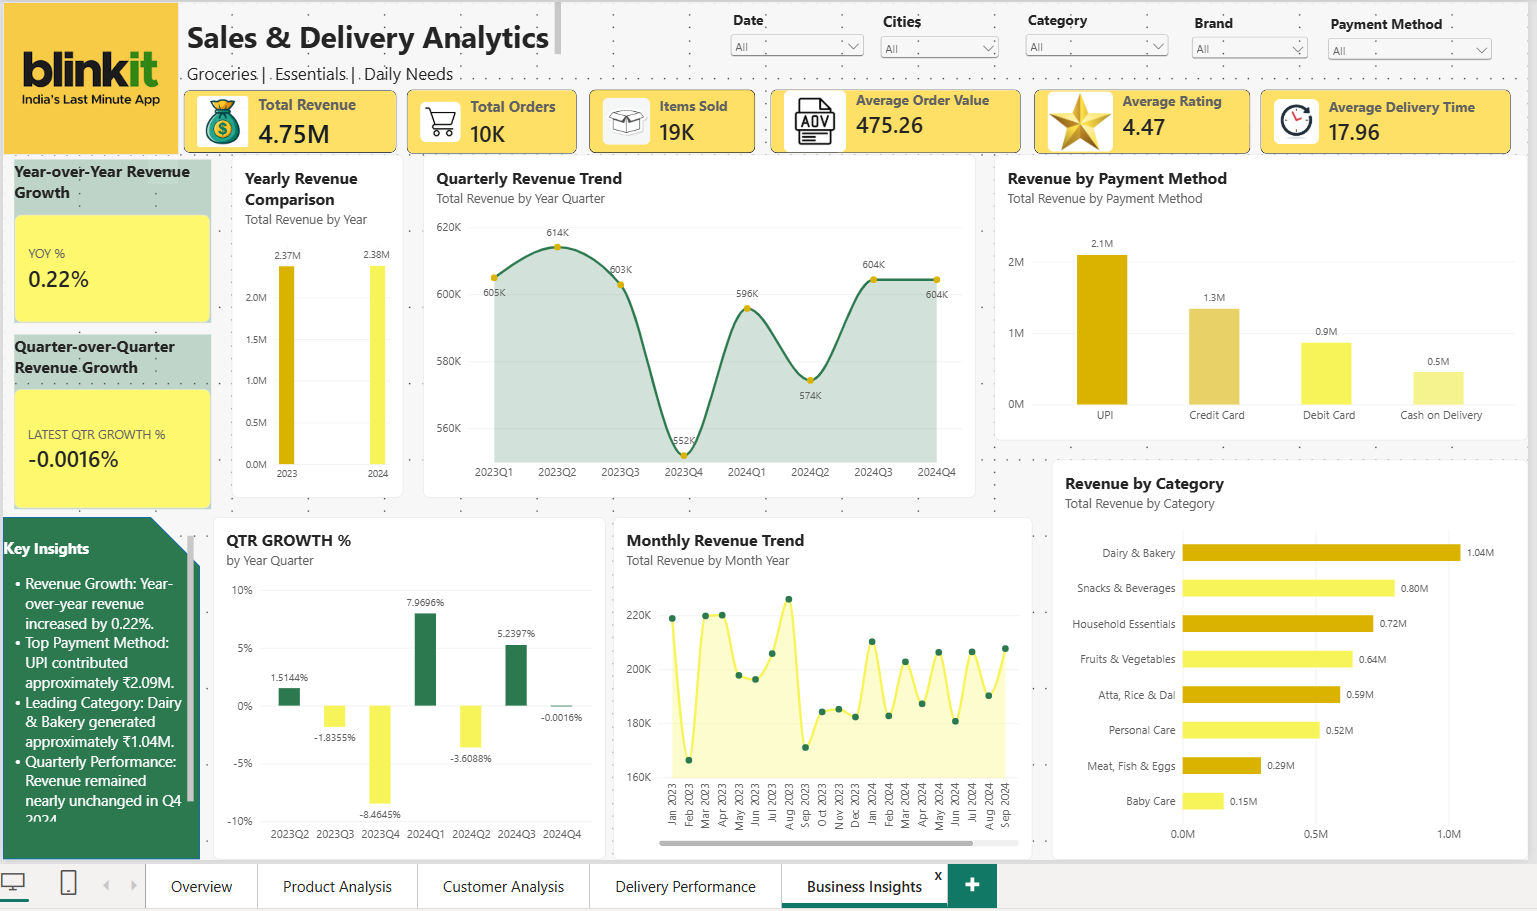

The dashboard page shown, as its layout file describes it:
{"tool":"powerbi","page":{"name":"Business Insights","canvas":[1920,1080],"ordinal":4},"visuals":[{"type":"image","box":[0,0,221.7,192.1],"z":0},{"type":"textbox","box":[232.1,0,471.5,75.4],"z":4},{"type":"textbox","box":[372,192,804,138],"z":5},{"type":"textbox","box":[372,330,804,74],"z":6},{"type":"textbox","box":[232.1,75.4,818.8,35.5],"z":7},{"type":"slicer","fields":{"Values":["Calendar1.Date"]},"box":[910.5,10.5,177.4,69.4],"z":8},{"type":"slicer","fields":{"Values":["Cities.City"]},"box":[1100.6,10.5,158.7,68],"z":9},{"type":"slicer","fields":{"Values":["Orders.Category"]},"box":[1282,10.5,190.1,69.8],"z":10},{"type":"slicer","fields":{"Values":["Orders.Brand"]},"box":[1491.3,14,156.5,72.6],"z":11},{"type":"slicer","fields":{"Values":["Orders.Payment Method"]},"box":[1664,15.7,216.3,64.5],"z":12},{"type":"cardVisual","fields":{"Data":["Calendar1.Total Revenue"]},"box":[226.1,110.9,270.5,81.3],"z":13},{"type":"cardVisual","fields":{"Data":["Calendar1.Total Orders"]},"box":[508.5,110.9,214.3,81.3],"z":14},{"type":"cardVisual","fields":{"Data":["Calendar1.Items Sold"]},"box":[737.8,109.9,209.3,80.2],"z":15},{"type":"cardVisual","fields":{"Data":["Calendar1.Average Order Value"]},"box":[966.3,109.9,315.7,80.2],"z":16},{"type":"cardVisual","fields":{"Data":["Calendar1.Average Rating"]},"box":[1297.7,109.9,272.1,82],"z":17},{"type":"cardVisual","fields":{"Data":["Calendar1.Average Delivery Time"]},"box":[1583.7,109.9,315.7,82],"z":18},{"type":"clusteredColumnChart","title":"Yearly Revenue Comparison","fields":{"Category":["Calendar1.Year"],"Y":["Calendar1.Total Revenue"]},"box":[288,192,216,432],"z":25},{"type":"lineChart","title":"Quarterly Revenue Trend","fields":{"Category":["Calendar1.Year Quarter"],"Y":["Calendar1.Total Revenue"]},"box":[528,192,696,432],"z":28},{"type":"clusteredColumnChart","fields":{"Category":["Calendar1.Year Quarter"],"Y":["Calendar1.QTR GROWTH %"]},"box":[264,648,494,431],"z":29},{"type":"lineChart","title":"Monthly Revenue Trend","fields":{"Category":["Calendar1.Month Year"],"Y":["Calendar1.Total Revenue"]},"box":[768,648,528,432],"z":30},{"type":"clusteredBarChart","title":"Revenue by Category","fields":{"Category":["Orders.Category"],"Y":["Calendar1.Total Revenue"]},"box":[1320,576,600,504],"z":31},{"type":"clusteredColumnChart","title":"Revenue by Payment Method","fields":{"Category":["Orders.Payment Method"],"Y":["Calendar1.Total Revenue"]},"box":[1248,192,672,360],"z":32},{"type":"cardVisual","title":"Year-over-Year Revenue Growth","fields":{"Data":["Calendar1.YOY %"]},"box":[14.4,197.6,247.7,205.8],"z":33},{"type":"cardVisual","title":"Quarter-over-Quarter Revenue Growth","fields":{"Data":["Calendar1.LATEST QTR GROWTH %"]},"box":[14.4,417.8,247.7,219.8],"z":34},{"type":"shape","box":[0,648,248,431],"z":35},{"type":"textbox","box":[0,672,240,360],"z":36},{"type":"textbox","box":[96,96,312,168],"z":37}]}

Visuals, with their boxes on the page's 1920x1080 design canvas (x1, y1, x2, y2). These are canvas units, not pixel positions in the 1537x911 screenshot, which may show the page scaled, cropped or inside an application window:
image: 0:0:222:192
textbox: 232:0:704:75
textbox: 372:192:1176:330
textbox: 372:330:1176:404
textbox: 232:75:1051:111
slicer - Calendar1.Date: 910:10:1088:80
slicer - Cities.City: 1101:10:1259:78
slicer - Orders.Category: 1282:10:1472:80
slicer - Orders.Brand: 1491:14:1648:87
slicer - Orders.Payment Method: 1664:16:1880:80
cardVisual - Calendar1.Total Revenue: 226:111:497:192
cardVisual - Calendar1.Total Orders: 508:111:723:192
cardVisual - Calendar1.Items Sold: 738:110:947:190
cardVisual - Calendar1.Average Order Value: 966:110:1282:190
cardVisual - Calendar1.Average Rating: 1298:110:1570:192
cardVisual - Calendar1.Average Delivery Time: 1584:110:1899:192
"Yearly Revenue Comparison" clusteredColumnChart: 288:192:504:624
"Quarterly Revenue Trend" lineChart: 528:192:1224:624
clusteredColumnChart - Calendar1.Year Quarter x Calendar1.QTR GROWTH %: 264:648:758:1079
"Monthly Revenue Trend" lineChart: 768:648:1296:1080
"Revenue by Category" clusteredBarChart: 1320:576:1920:1080
"Revenue by Payment Method" clusteredColumnChart: 1248:192:1920:552
"Year-over-Year Revenue Growth" cardVisual: 14:198:262:403
"Quarter-over-Quarter Revenue Growth" cardVisual: 14:418:262:638
shape: 0:648:248:1079
textbox: 0:672:240:1032
textbox: 96:96:408:264
